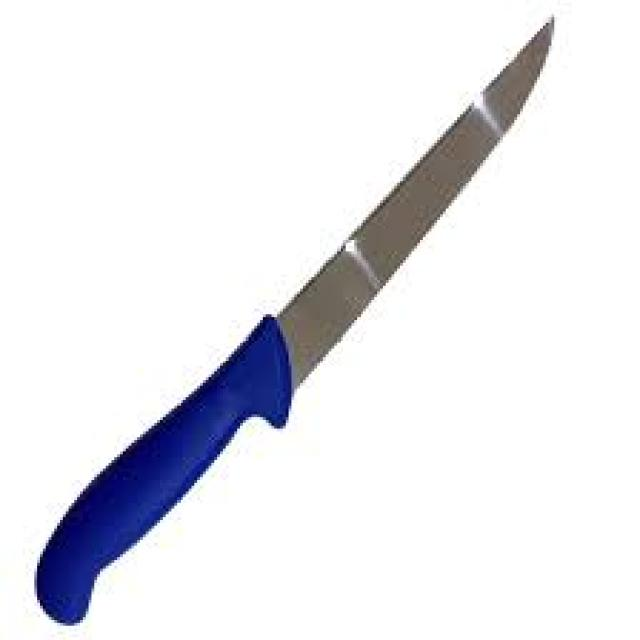Knife: (34, 14, 551, 620)
